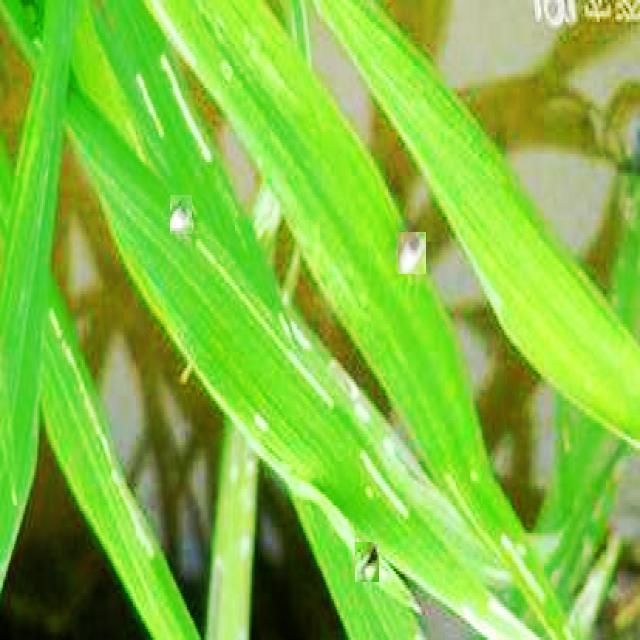rice-bug: (398, 232, 426, 274), (355, 542, 379, 582), (171, 195, 193, 234)
